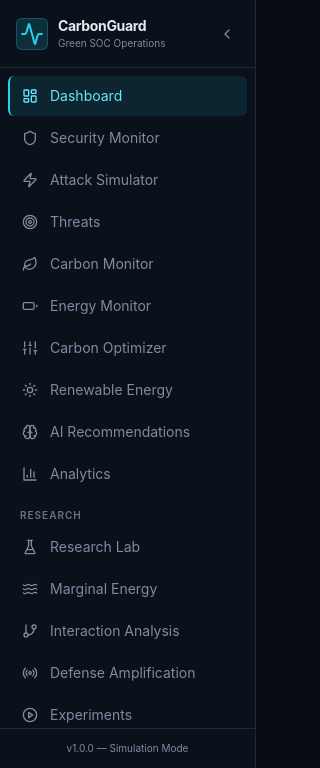
Test: Sidebar › collapses when toggle button clicked
Click the button with class "hidden": [227, 34] box [215, 22, 239, 46]
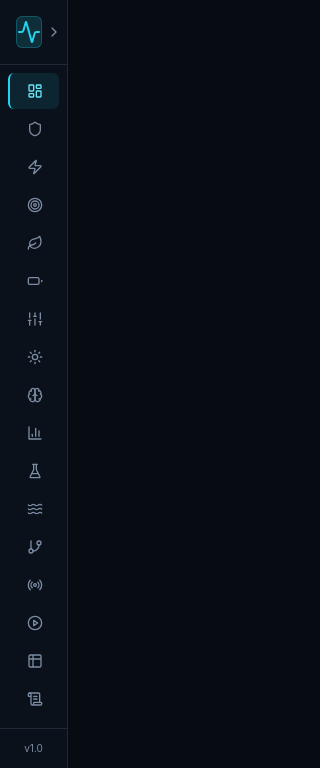
Now the heading "CarbonGuard" is gone
